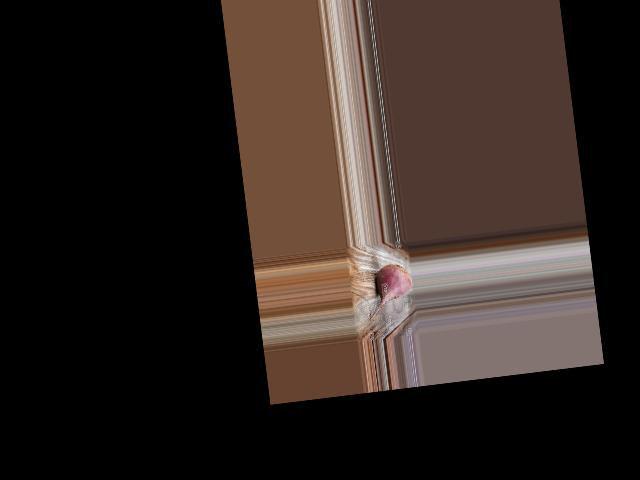beet: (363, 262, 415, 320)
